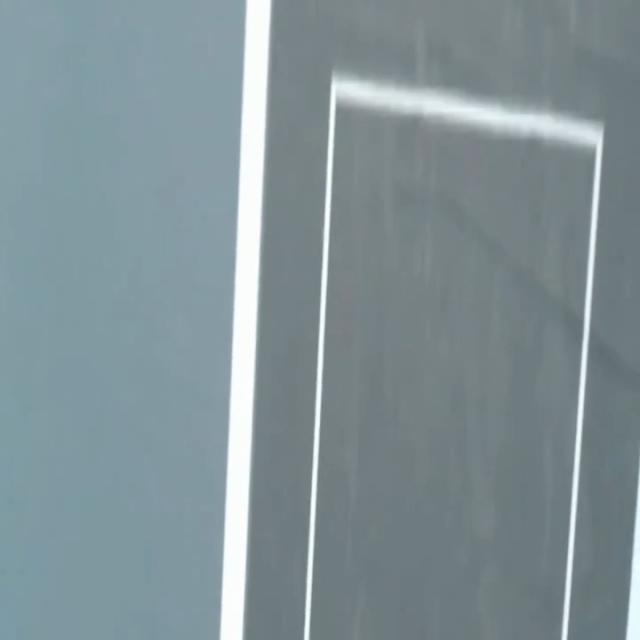center: (626, 463, 639, 639)
left: (220, 0, 271, 639)
